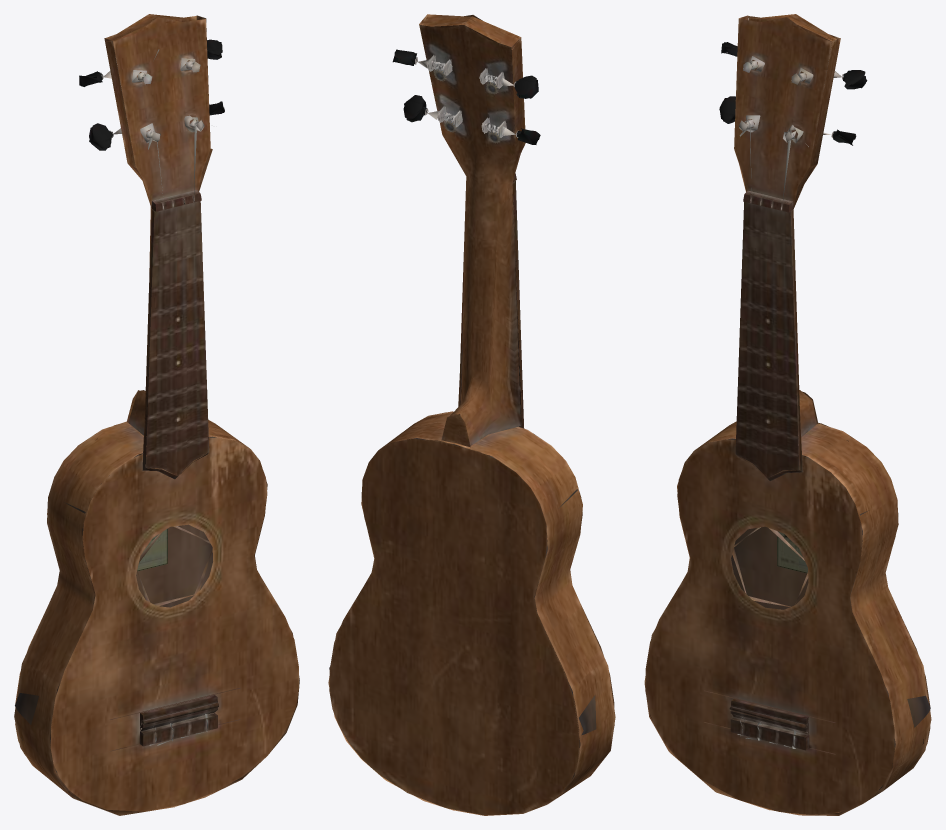
File: isl_uke.glb
The picture shows the model from 3 angles, left to right: view 1: azimuth 30°, elevation 25°; view 2: azimuth 150°, elevation 25°; view 3: azimuth 330°, elevation 25°; orthographic projection.
Parts seen in each view (by area): view 1: Ukulele_01; view 2: Ukulele_01; view 3: Ukulele_01.
Boxes of the visible parts, x1,y1,x2,y2 form: Ukulele_01: (14, 14, 299, 815); Ukulele_01: (328, 14, 615, 815); Ukulele_01: (644, 14, 931, 815).
Size of the model in its own units: 0.1791 by 0.5267 by 0.0506.
1 material, 1 textured.
